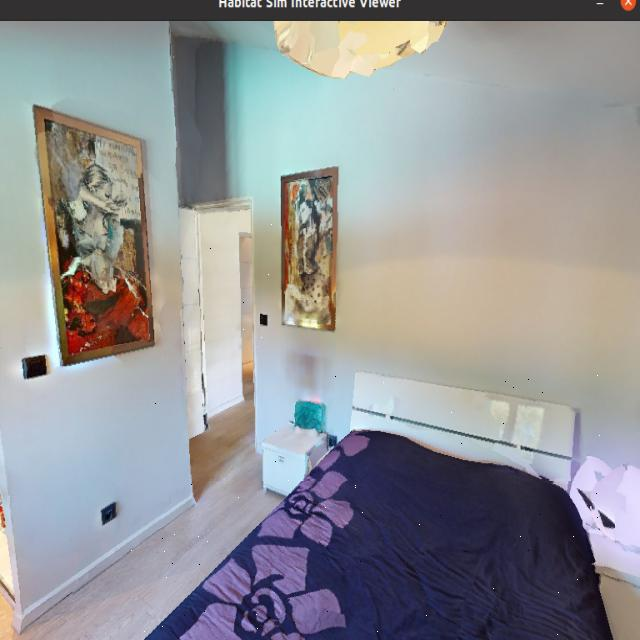bed: (117, 372, 616, 640)
door-frame: (153, 197, 282, 457)
